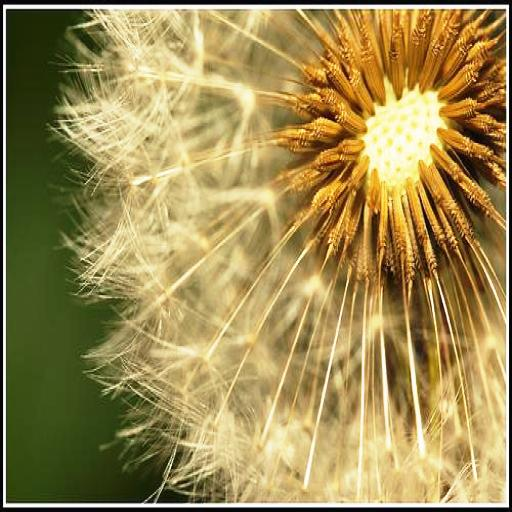dandelion: (55, 10, 505, 500)
